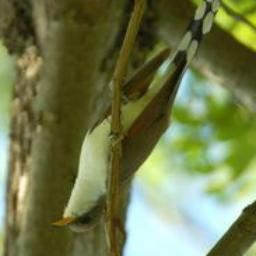Cuckoo: (52, 0, 220, 234)
